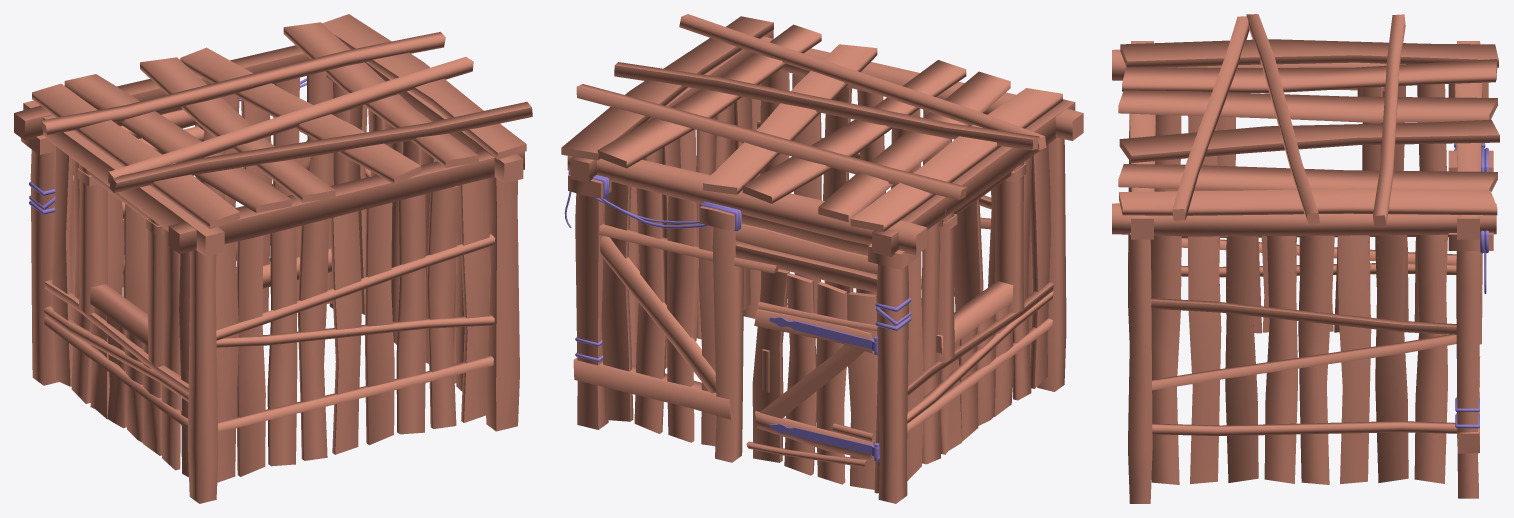
Rendered from woodhut_a.fbx.
3 renders of one model, left to right at view 1: azimuth 30°, elevation 25°; view 2: azimuth 150°, elevation 25°; view 3: azimuth 270°, elevation 25°, orthographic. The views are drawn at different scales.
Visible parts, largest first — view 1: Cube.026, Cube.038; view 2: Cube.026, Cube.038, Cube.037, Cube.032; view 3: Cube.026, Cube.032.
Part boxes in pixels (x1=…): Cube.026: x1=14, y1=14, x2=532, y2=503; Cube.038: x1=71, y1=178, x2=147, y2=321; Cube.026: x1=561, y1=14, x2=1083, y2=503; Cube.038: x1=746, y1=269, x2=877, y2=489; Cube.037: x1=769, y1=317, x2=879, y2=457; Cube.032: x1=564, y1=171, x2=911, y2=461; Cube.026: x1=1112, y1=14, x2=1499, y2=503; Cube.032: x1=1454, y1=143, x2=1488, y2=428.
Size of the model in its own units: 5.35 by 3.84 by 4.31.
